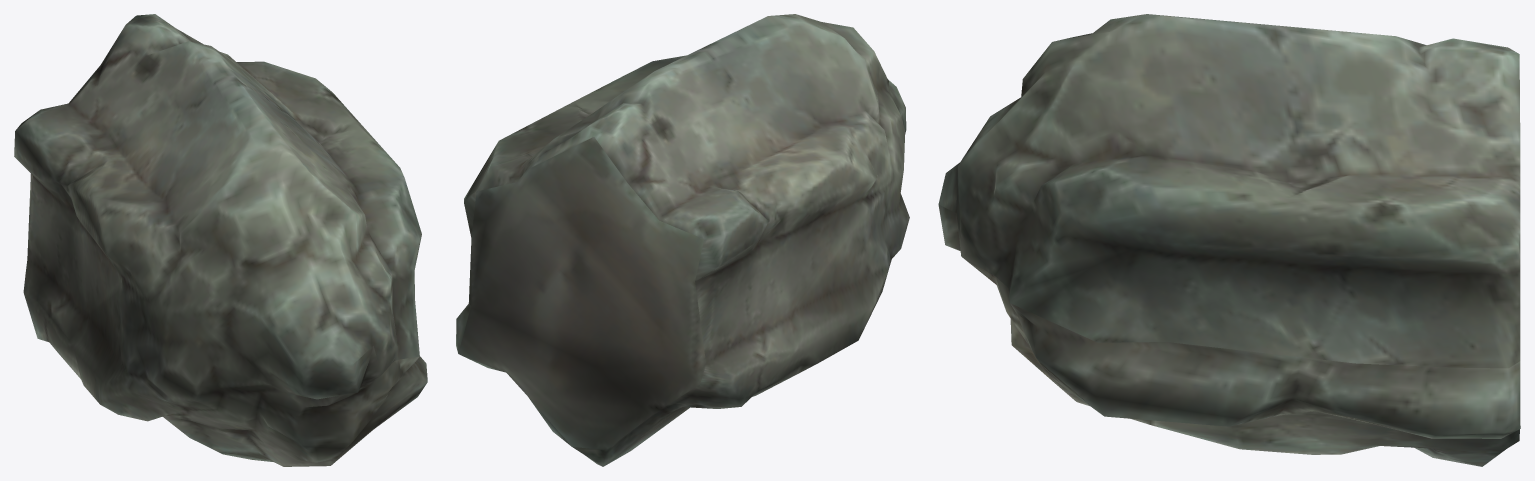
The model's file is Ruins_Pillar_5m_Arch_DMG_A.fbx.
The picture shows the model from 3 angles, left to right: view 1: azimuth 30°, elevation 25°; view 2: azimuth 150°, elevation 25°; view 3: azimuth 270°, elevation 25°; orthographic projection. The views are drawn at different scales.
Visible parts, largest first — view 1: Ruins_Pillar_5m_Arch_DMG_A; view 2: Ruins_Pillar_5m_Arch_DMG_A; view 3: Ruins_Pillar_5m_Arch_DMG_A.
Part boxes in pixels (left/top/right/bottom): Ruins_Pillar_5m_Arch_DMG_A: left=14, top=14, right=427, bottom=466; Ruins_Pillar_5m_Arch_DMG_A: left=456, top=14, right=909, bottom=466; Ruins_Pillar_5m_Arch_DMG_A: left=938, top=14, right=1520, bottom=466.
Bounding box in the file's own units: 333 × 384 × 474.
